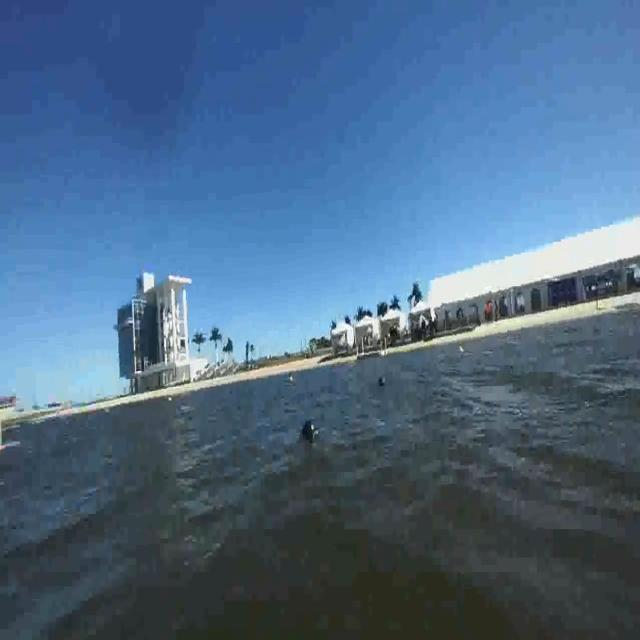black-buoy: (299, 416, 320, 442), (378, 371, 388, 388)
